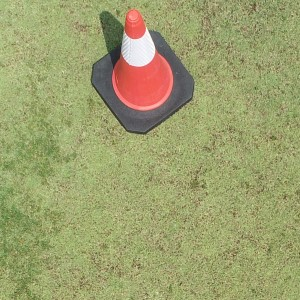traffic cone: (91, 9, 194, 133)
